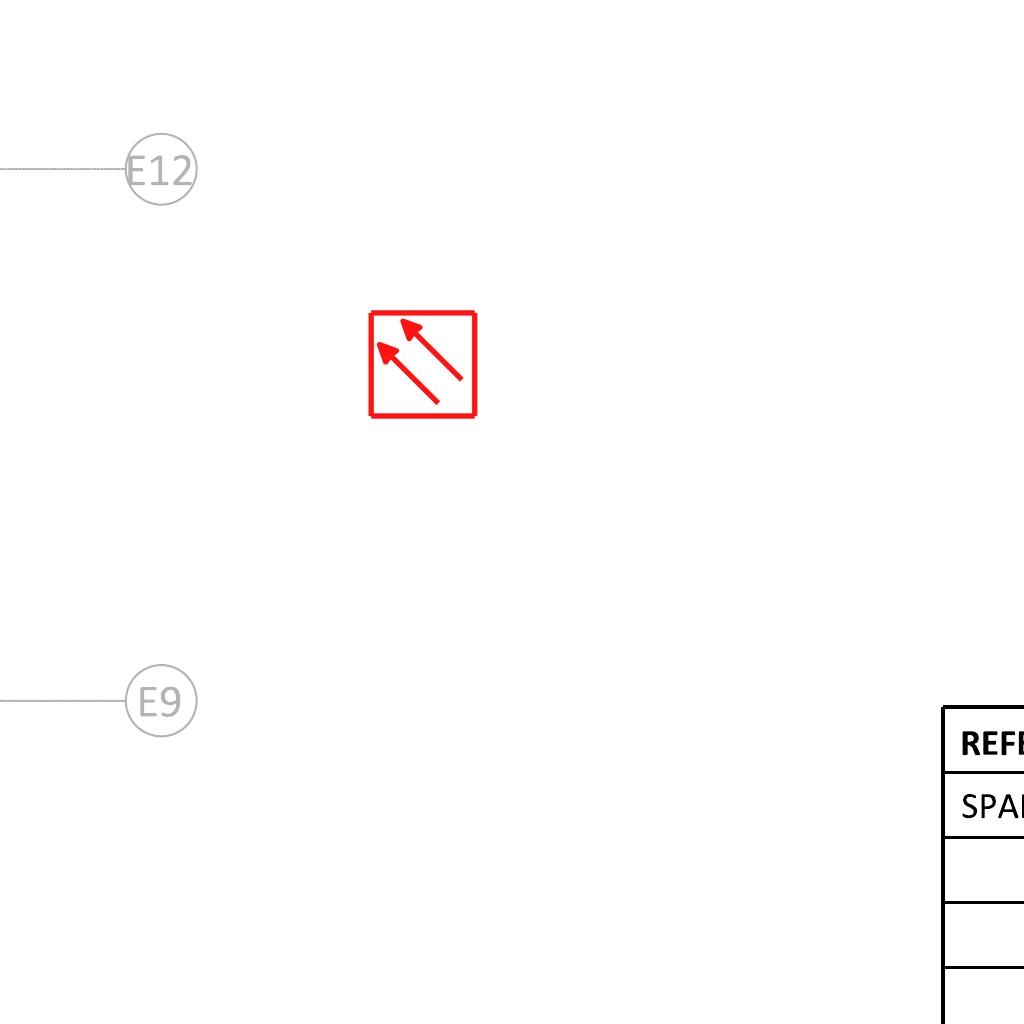RMO_Rauchmelder_optischer: (366, 308, 479, 421)
